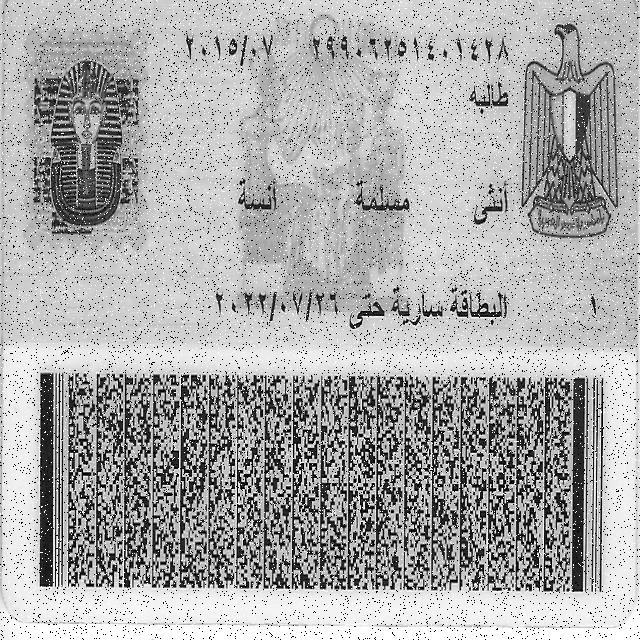id_card: (0, 0, 639, 621)
